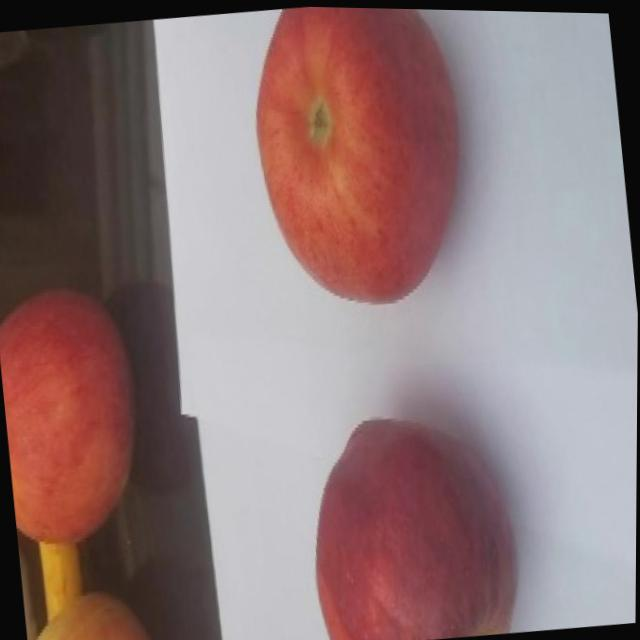Apple: (242, 4, 477, 316), (298, 402, 526, 640), (0, 260, 163, 557)
